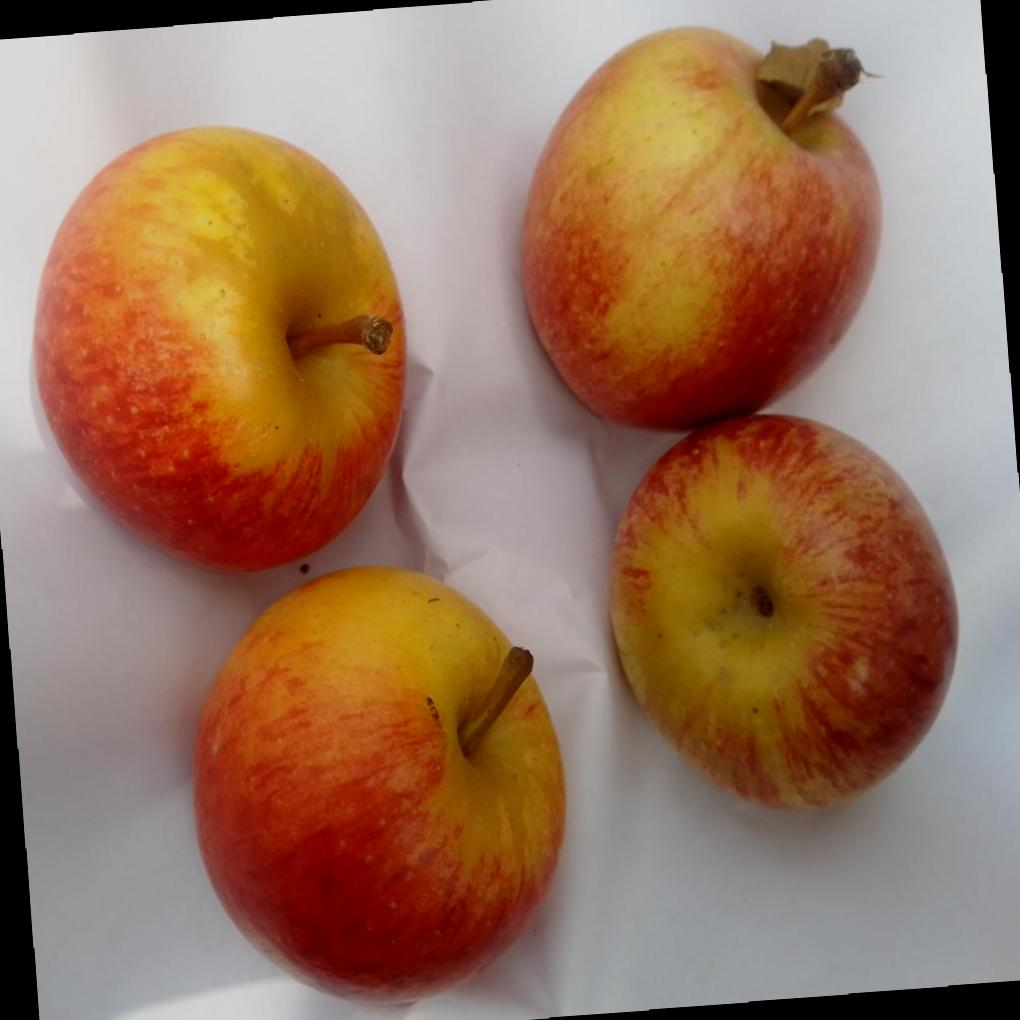FreshGuava: (516, 27, 960, 815), (28, 126, 425, 578), (191, 568, 566, 1007)
